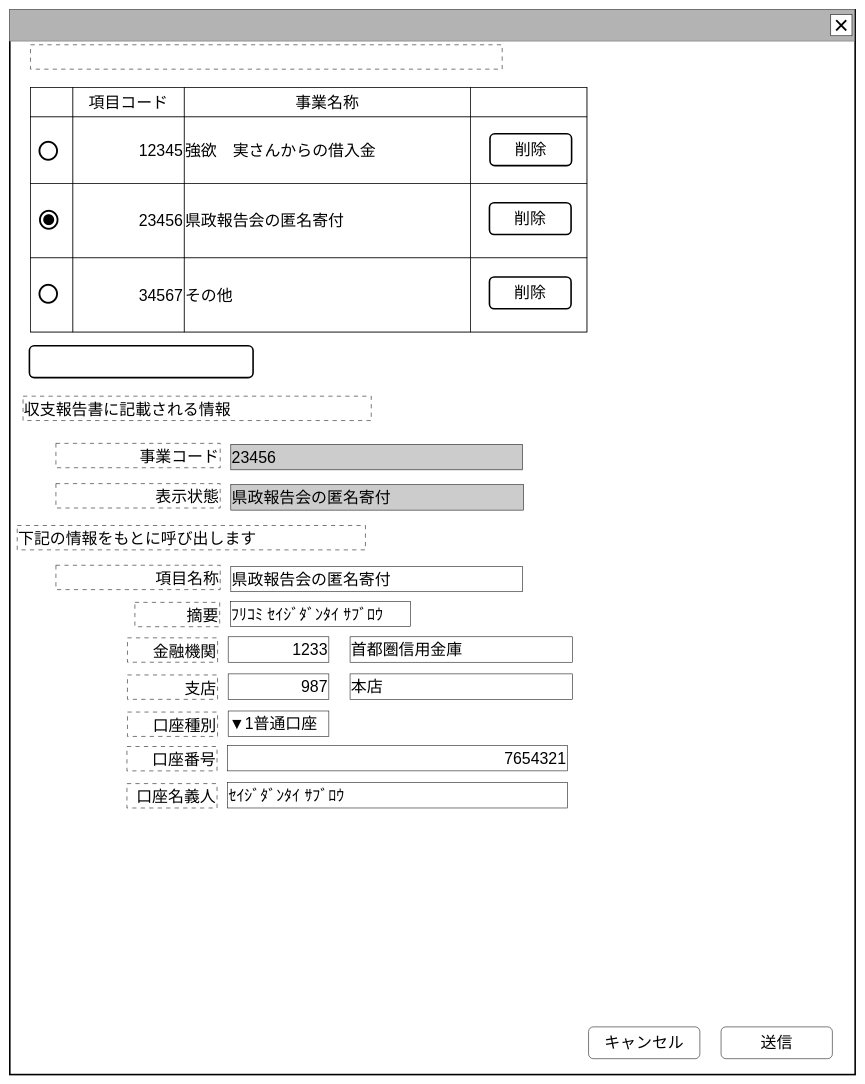
Some shapes in this 865 by 1084 pixel diagram are drawn without their labels. Here are the shapes that lost their labels. From the top down, the centre of each, then its label:
At (266,56): "一般項目編集".
At (141,361): "新しい行追加".
